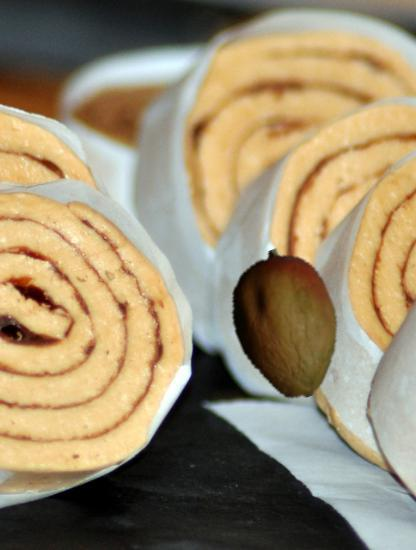Papaya: (212, 250, 362, 400)
